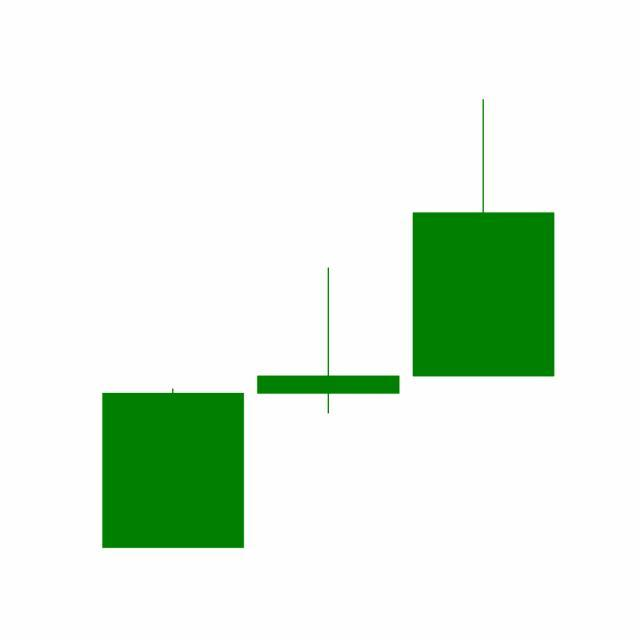Spinning Top: (250, 267, 407, 417)
